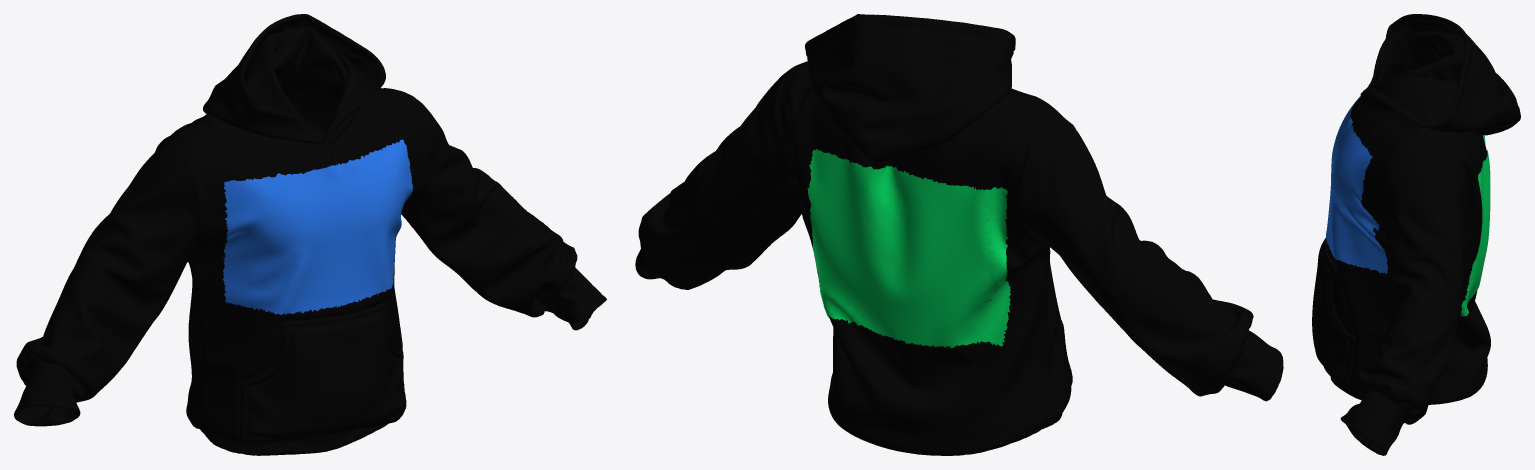
File: printable hoodie black.glb
The picture shows the model from 3 angles, left to right: view 1: azimuth 30°, elevation 25°; view 2: azimuth 150°, elevation 25°; view 3: azimuth 270°, elevation 25°; orthographic projection. The views are drawn at different scales.
Visible parts, largest first — view 1: t shirt hoodie 3d model; view 2: t shirt hoodie 3d model; view 3: t shirt hoodie 3d model.
Boxes of the visible parts, x1,y1,x2,y2 form: t shirt hoodie 3d model: [14, 14, 606, 455]; t shirt hoodie 3d model: [635, 14, 1283, 455]; t shirt hoodie 3d model: [1312, 14, 1520, 455].
Size of the model in its own units: 6.99 by 4.36 by 2.36.
